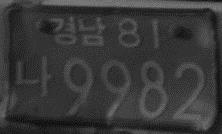1: (148, 17, 163, 51)
2: (170, 61, 206, 121)
8: (138, 58, 169, 121), (117, 16, 141, 49)
9: (98, 57, 132, 123), (61, 56, 94, 119)
경남_O: (47, 15, 107, 48)
나: (13, 53, 53, 99)
